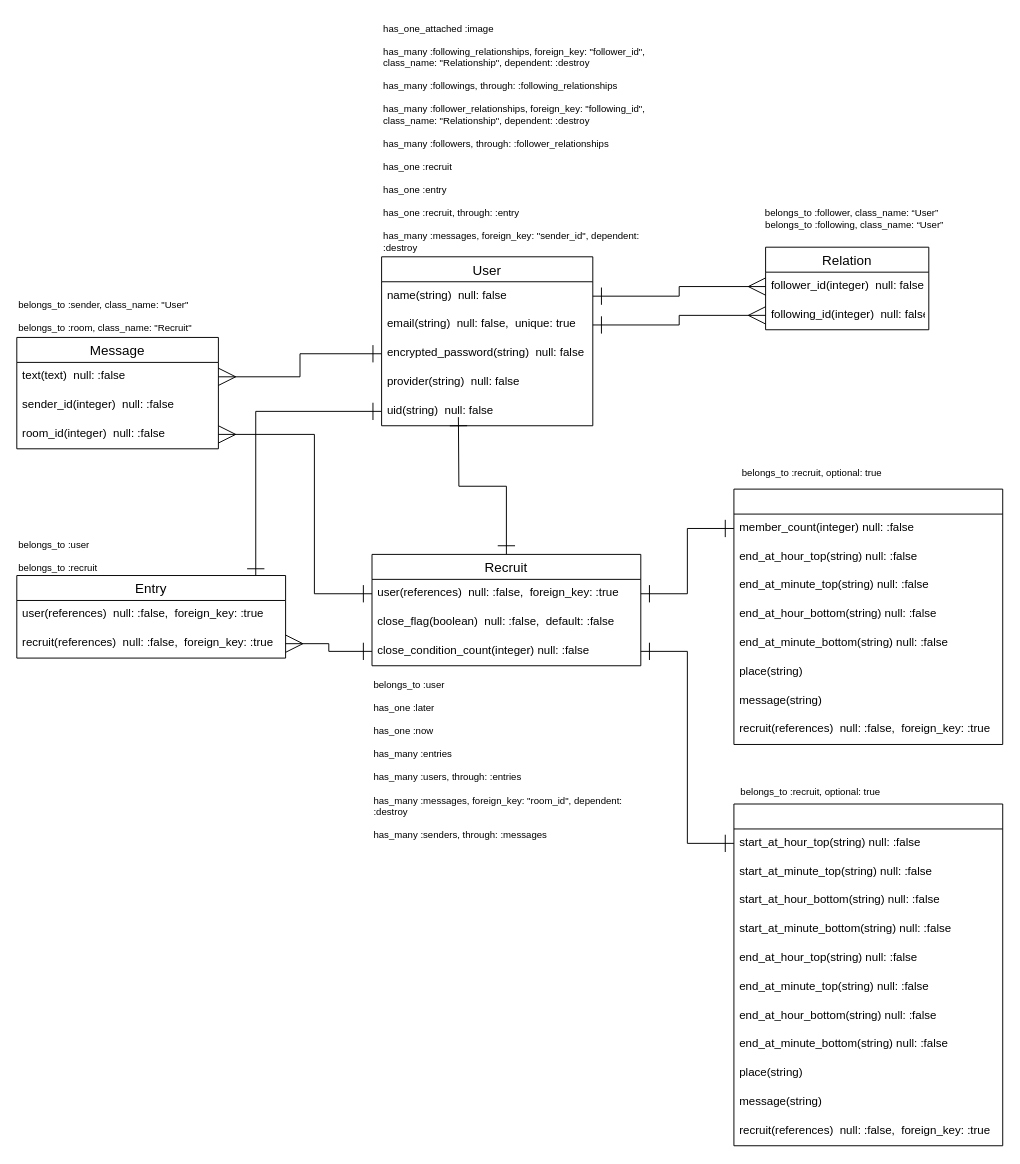
This 1020x1164 diagram has some shape labels left out. Here are the shapes that lost their labels. From the top down, the box of each, then its label:
(733, 488, 1003, 744): Now
(733, 803, 1003, 1146): Later
